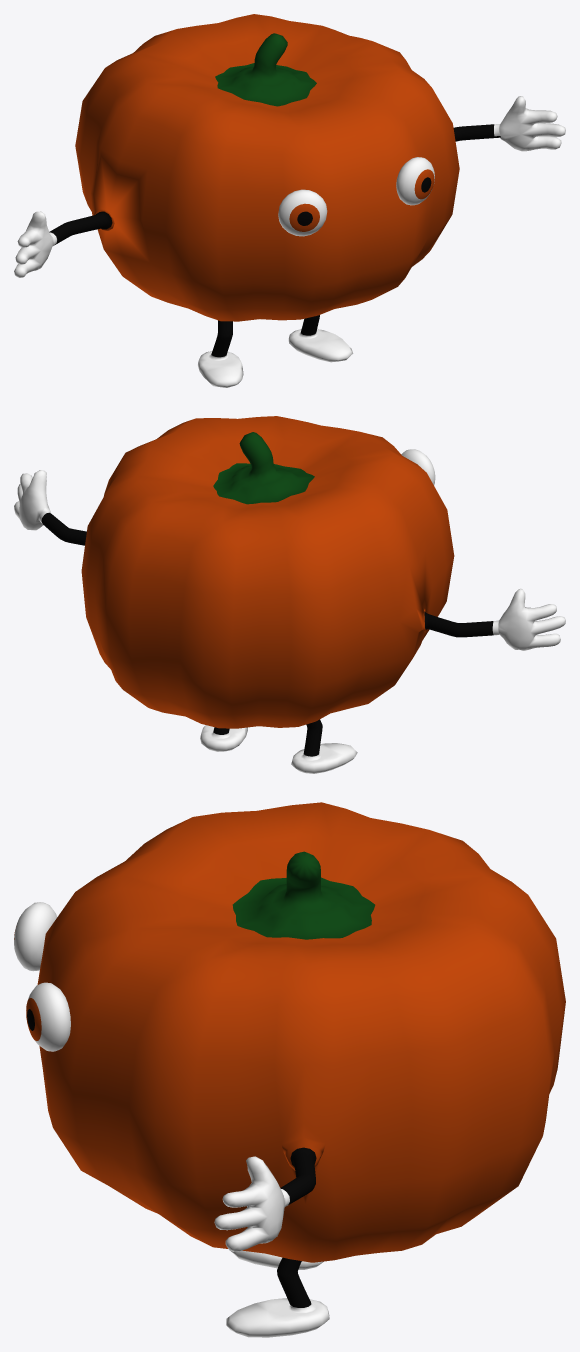
The model's file is Courge.FBX.
3 views of the same model, one above another, from view 1: azimuth 30°, elevation 25°; view 2: azimuth 150°, elevation 25°; view 3: azimuth 270°, elevation 25° (orthographic). The views are drawn at different scales.
Parts seen in each view (by area): view 1: Box003; view 2: Box003; view 3: Box003.
Part boxes in pixels (x1,y1,x2,y2): Box003: (14,14,565,387); Box003: (14,416,565,773); Box003: (14,802,565,1337).
Bounding box in the file's own units: 232 × 130 × 144.
